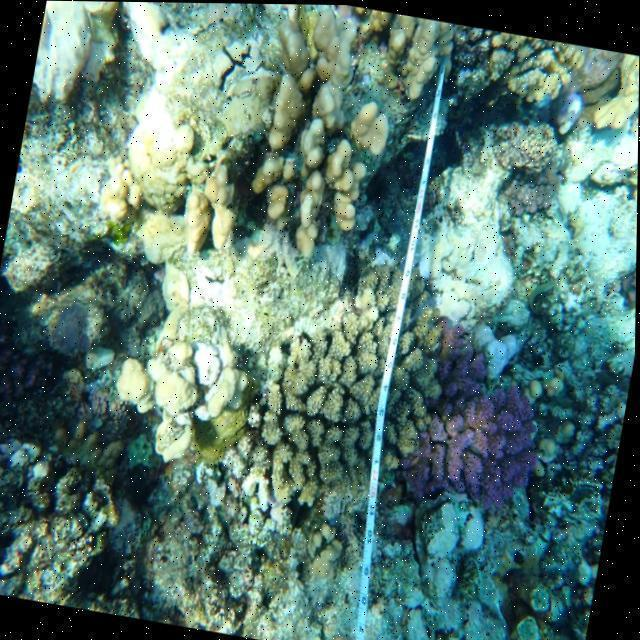Bleached Coral: (406, 149, 573, 356), (413, 484, 496, 600)
Healthy Coral: (269, 305, 377, 490), (421, 359, 555, 494)
